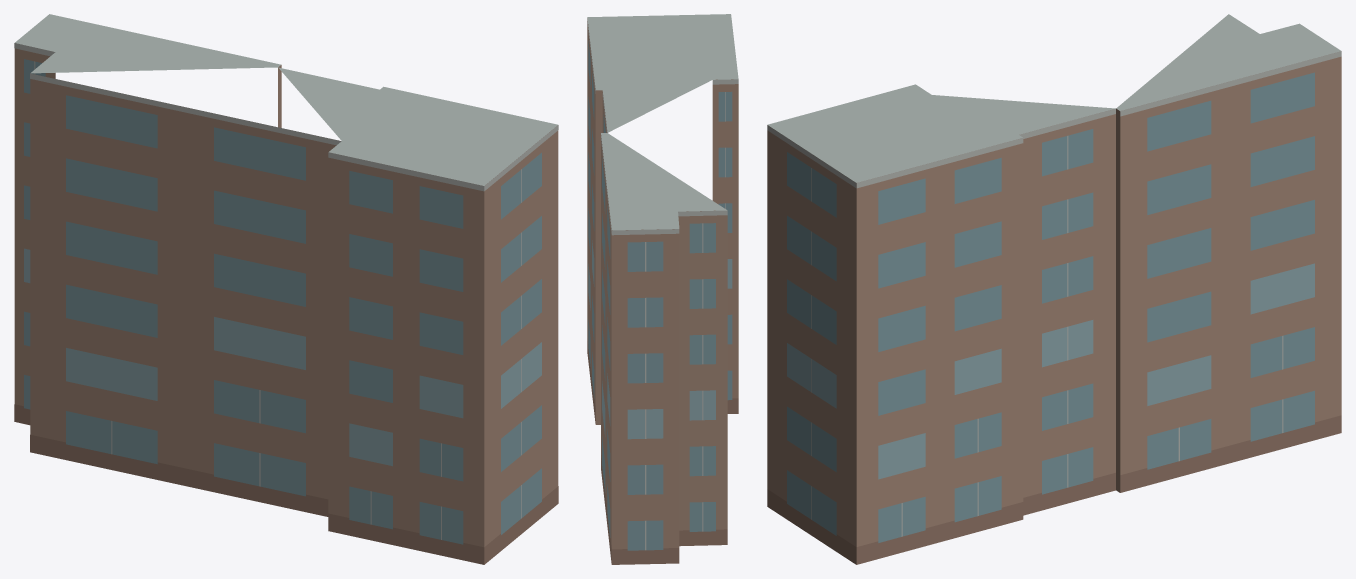
The model's file is survey-upis-32724743.glb.
The picture shows the model from 3 angles, left to right: view 1: azimuth 30°, elevation 25°; view 2: azimuth 150°, elevation 25°; view 3: azimuth 270°, elevation 25°; orthographic projection. The views are drawn at different scales.
Parts seen in each view (by area): view 1: survey-upis-32724743.tmp; view 2: survey-upis-32724743.tmp; view 3: survey-upis-32724743.tmp.
Part boxes in pixels (x1=…): survey-upis-32724743.tmp: x1=14, y1=14, x2=558, y2=564; survey-upis-32724743.tmp: x1=587, y1=14, x2=738, y2=564; survey-upis-32724743.tmp: x1=767, y1=14, x2=1341, y2=564.
Size of the model in its own units: 16.24 by 17.1 by 23.32.
